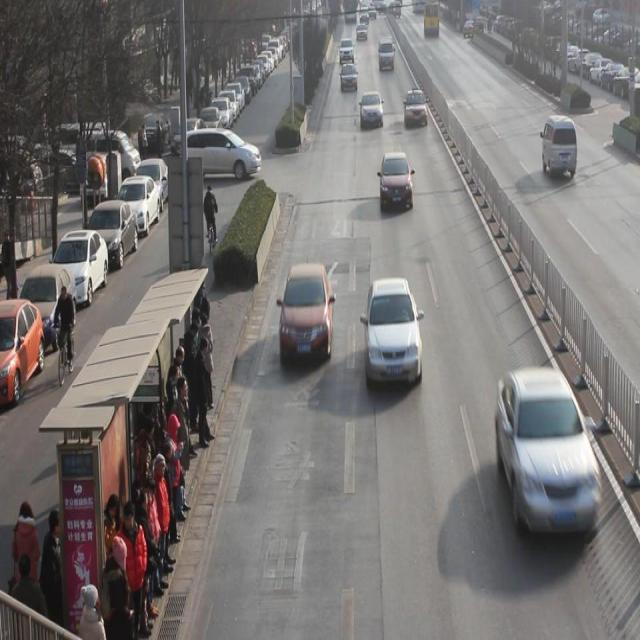car: (497, 367, 603, 541), (366, 276, 424, 385), (279, 263, 334, 364), (380, 152, 413, 213), (404, 89, 428, 128), (360, 92, 384, 130), (340, 61, 358, 91)
truck: (543, 114, 578, 182)
